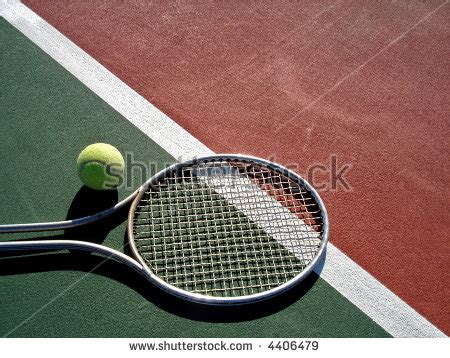tennis_ball: (76, 142, 125, 189)
